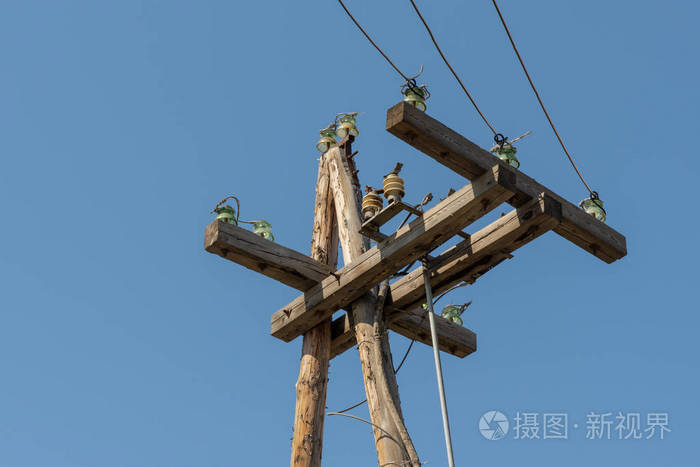insulator: (382, 174, 406, 198), (362, 194, 384, 210)
